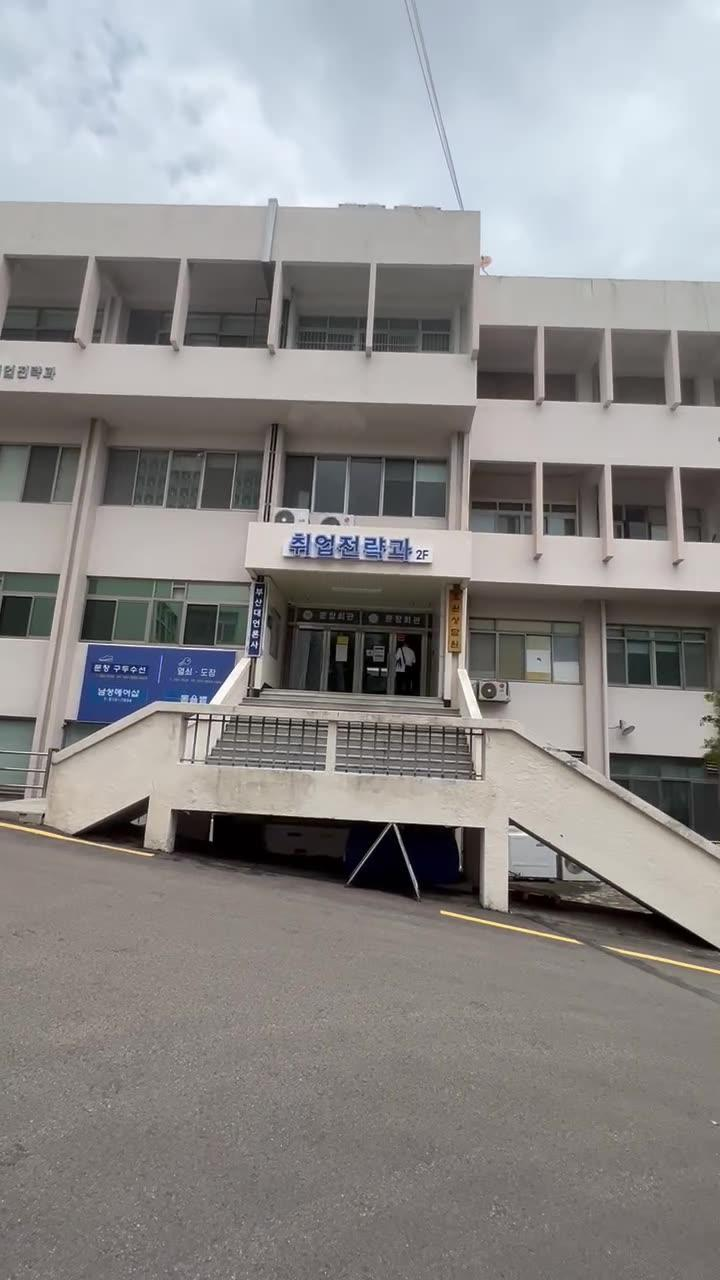building: (20, 194, 720, 896)
